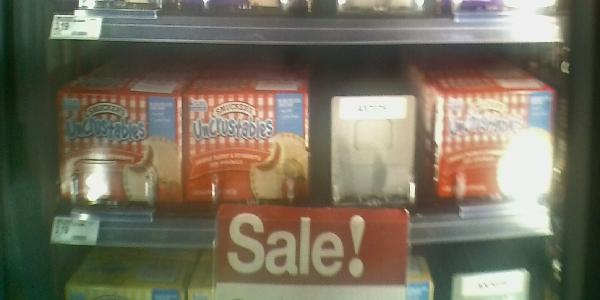icecream: (54, 89, 184, 210), (181, 89, 310, 210), (428, 90, 553, 204)
